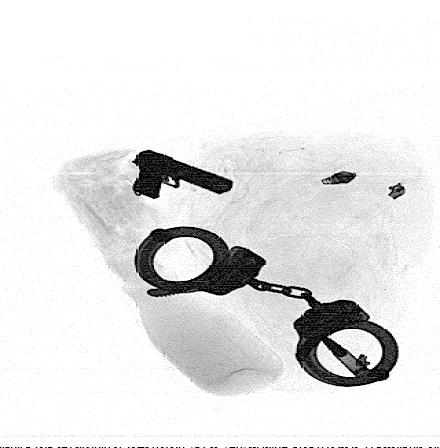Bullet: (317, 333, 369, 378)
Gun: (131, 148, 235, 200)
HandCuffs: (129, 225, 400, 389)
